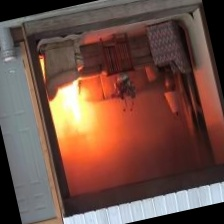fire: (60, 85, 83, 113)
